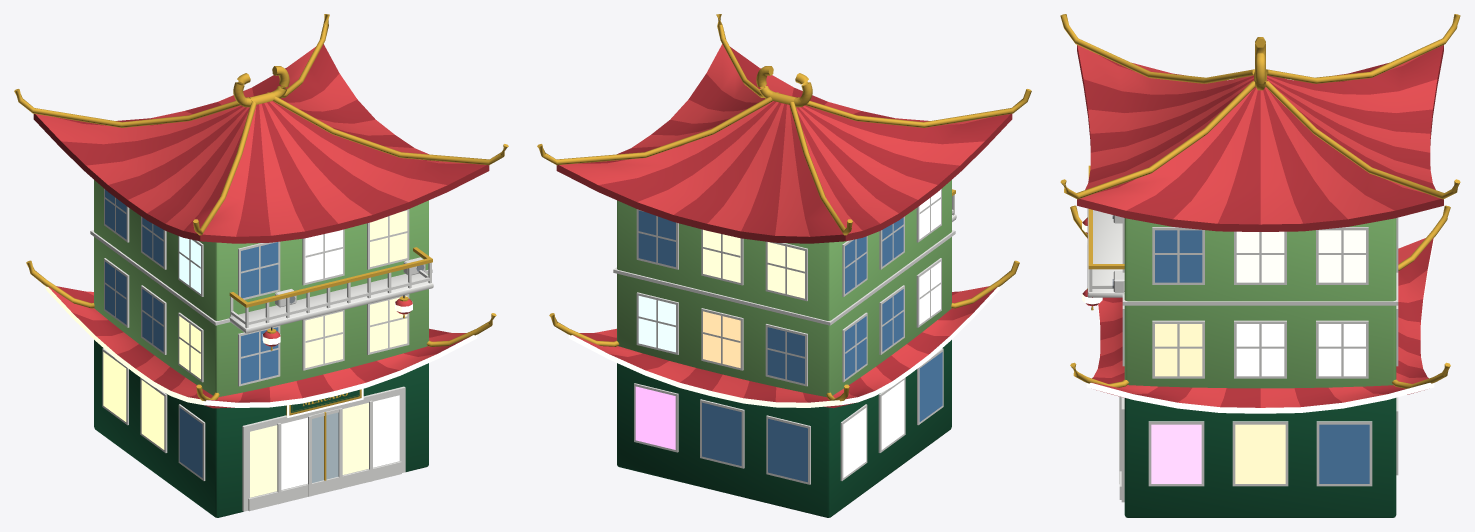
File: loja_3_andares_verde.glb
3 views of the same model, side by side, from view 1: azimuth 30°, elevation 25°; view 2: azimuth 150°, elevation 25°; view 3: azimuth 270°, elevation 25° (orthographic). The views are drawn at different scales.
Parts seen in each view (by area): view 1: loja_3_andares_verde; view 2: loja_3_andares_verde; view 3: loja_3_andares_verde.
Part boxes in pixels (x1,y1,x2,y2): loja_3_andares_verde: (14, 14, 508, 517); loja_3_andares_verde: (537, 14, 1031, 517); loja_3_andares_verde: (1060, 14, 1460, 517).
Size of the model in its own units: 12.36 by 14.19 by 12.38.
9 materials, 2 textured.
